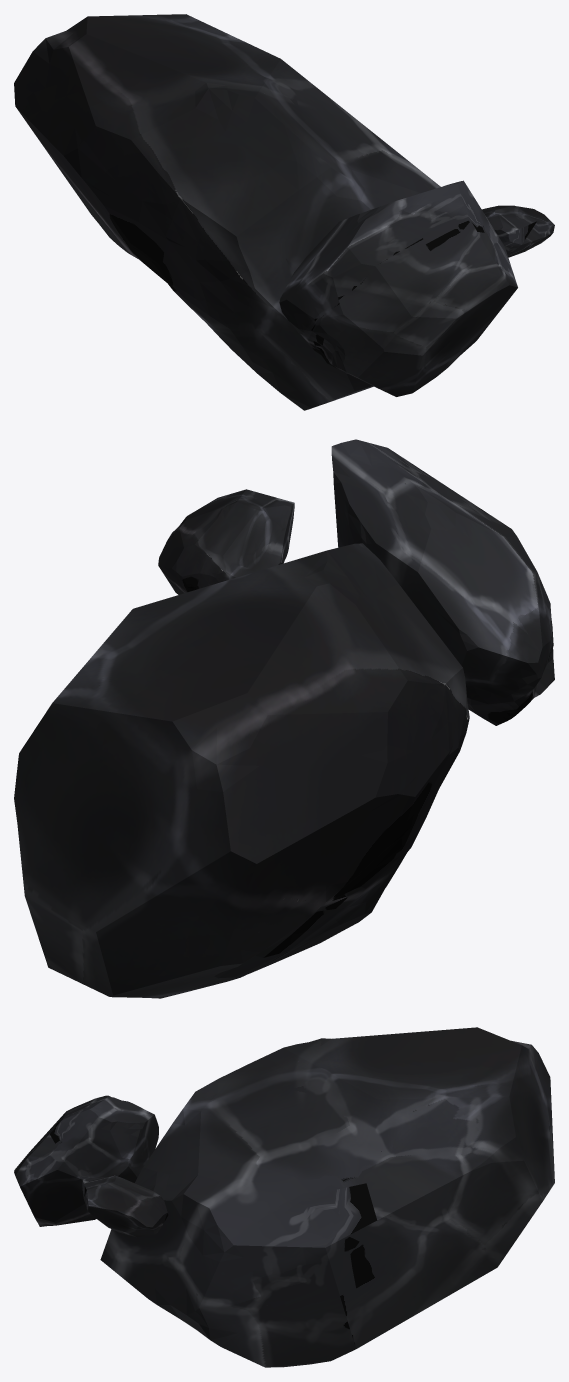
The model's file is rocks_detail_1.obj.
3 renders of one model, top to bottom at view 1: azimuth 30°, elevation 25°; view 2: azimuth 150°, elevation 25°; view 3: azimuth 270°, elevation 25°, orthographic. The views are drawn at different scales.
Visible parts, largest first — view 1: Cube.010_Cube.056, Cube.012_Cube.057, Cube.013_Cube.058; view 2: Cube.010_Cube.056, Cube.012_Cube.057, Cube.013_Cube.058; view 3: Cube.010_Cube.056, Cube.012_Cube.057, Cube.013_Cube.058.
Boxes of the visible parts, x1=… form: Cube.010_Cube.056: x1=14, y1=14, x2=440, y2=410; Cube.012_Cube.057: x1=279, y1=180, x2=517, y2=396; Cube.013_Cube.058: x1=482, y1=205, x2=554, y2=257; Cube.010_Cube.056: x1=14, y1=543, x2=469, y2=998; Cube.012_Cube.057: x1=331, y1=439, x2=554, y2=725; Cube.013_Cube.058: x1=158, y1=489, x2=294, y2=594; Cube.010_Cube.056: x1=100, y1=1027, x2=554, y2=1367; Cube.012_Cube.057: x1=14, y1=1095, x2=158, y2=1226; Cube.013_Cube.058: x1=82, y1=1175, x2=168, y2=1237.
Bounding box in the file's own units: 2.01 × 2 × 3.52.
